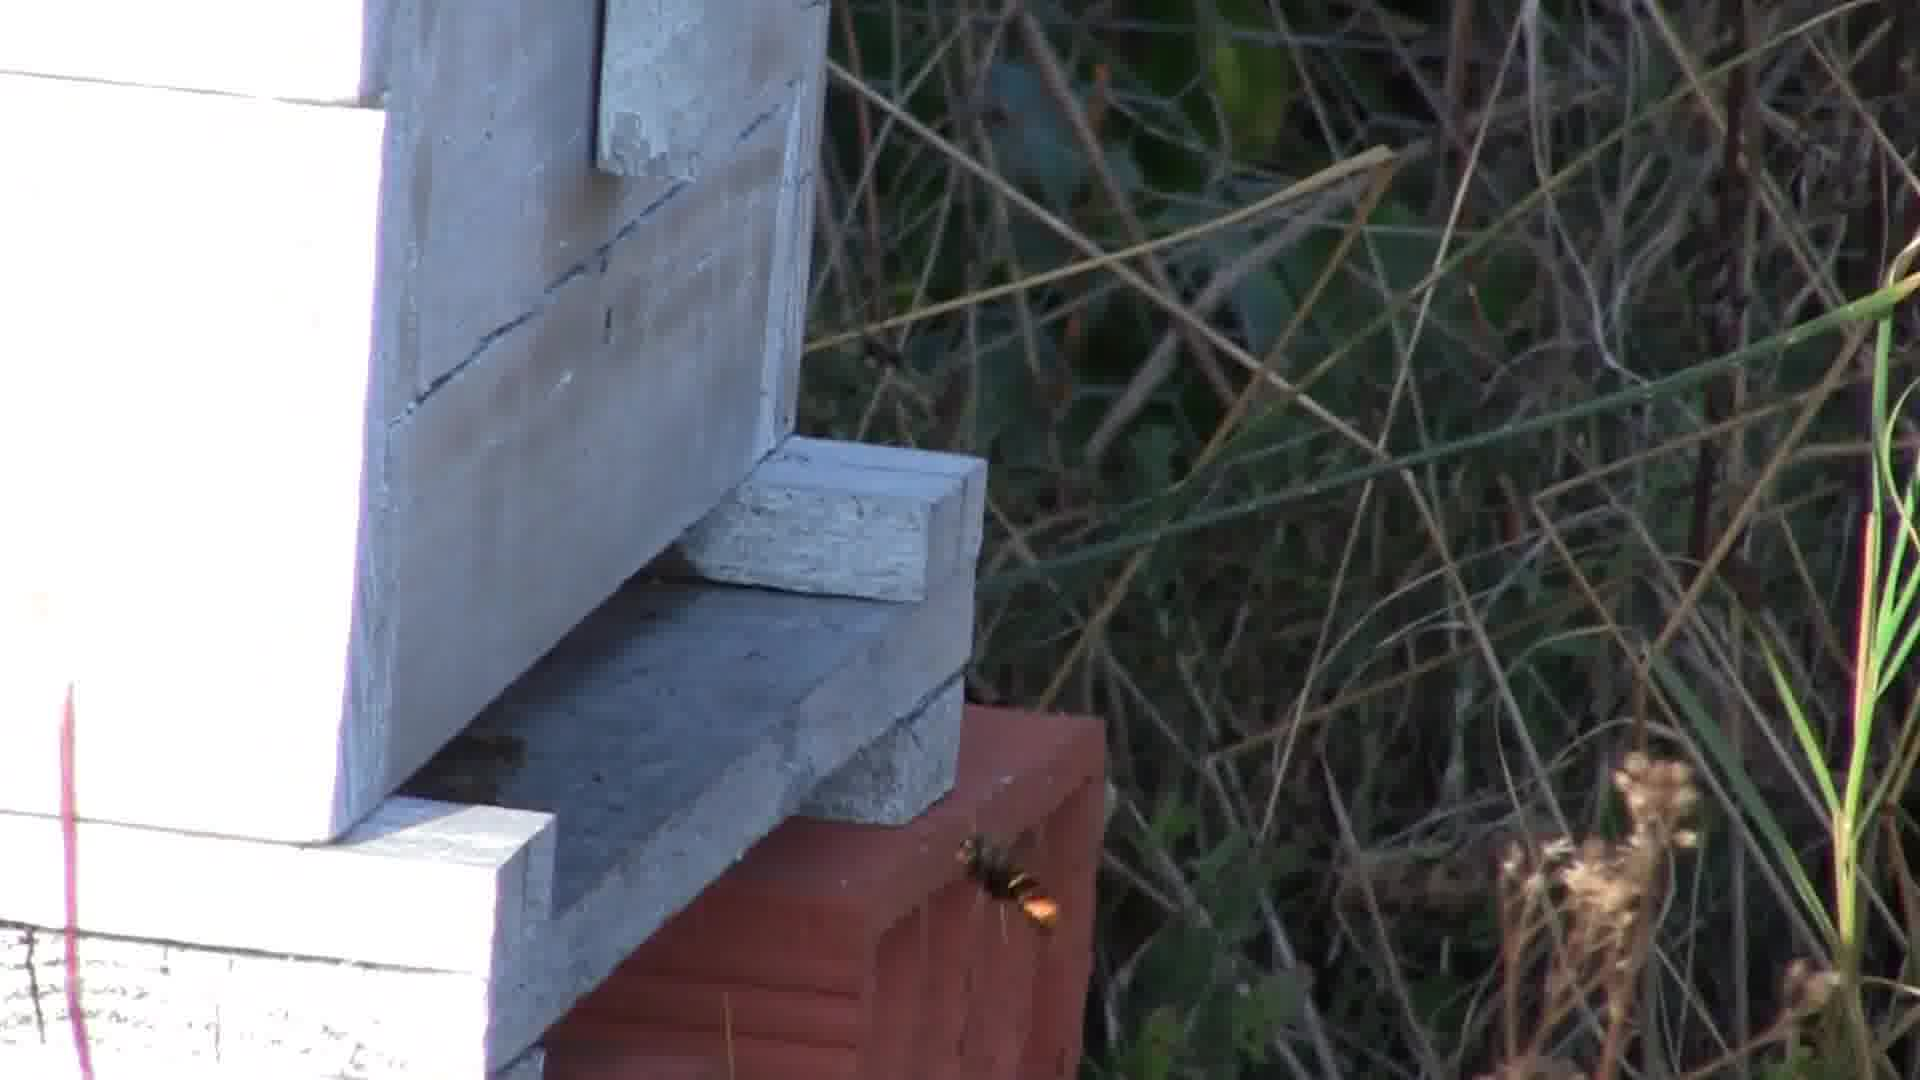hornet: (940, 812, 1073, 943)
